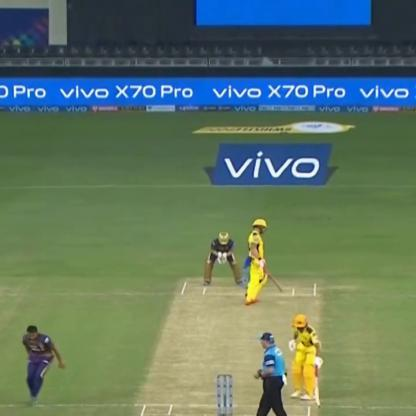pitch: (132, 268, 327, 416)
